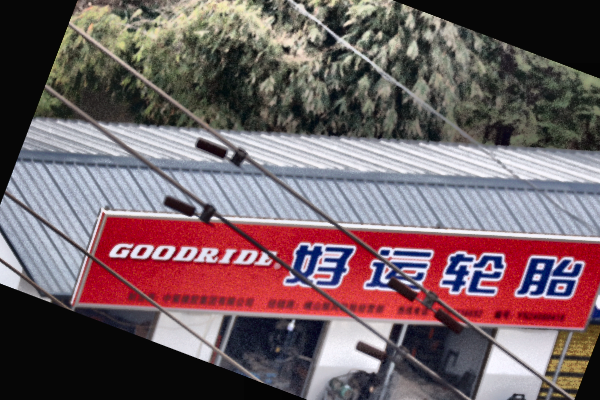damper: (386, 272, 466, 337)
damper_defect: (161, 193, 223, 231), (192, 135, 254, 172), (354, 339, 413, 369)
